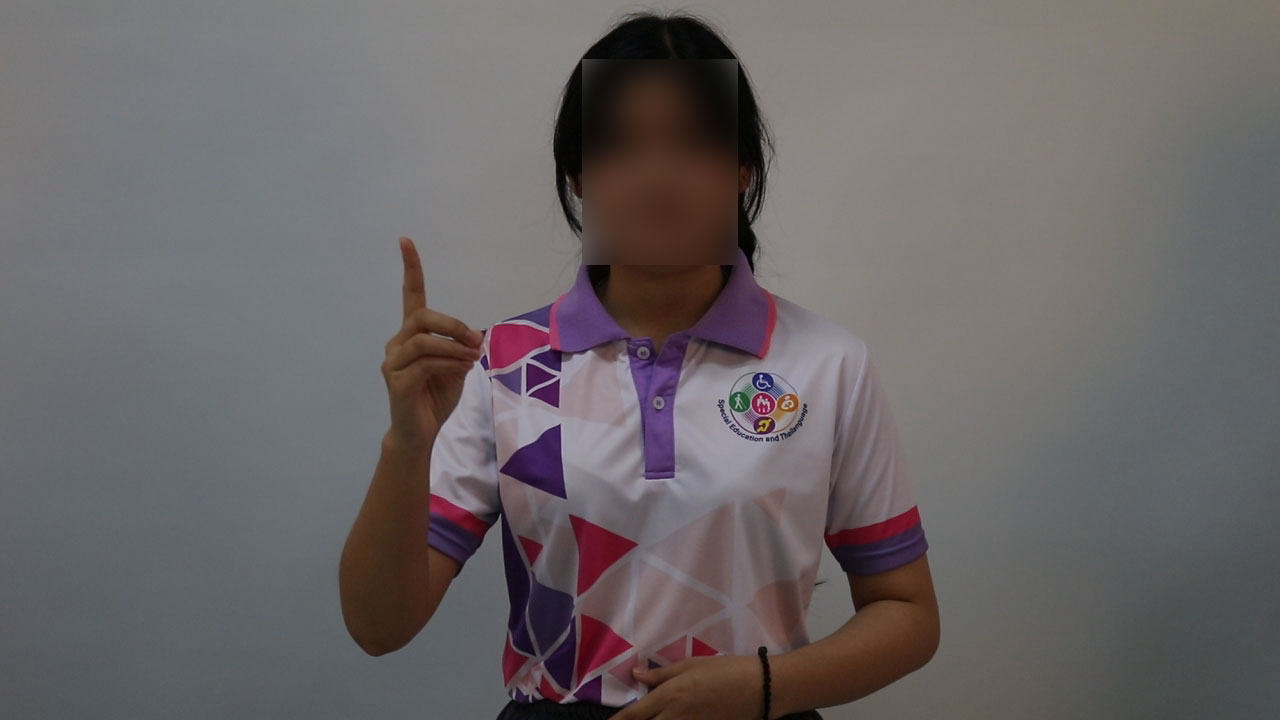dor: (368, 227, 494, 440)
